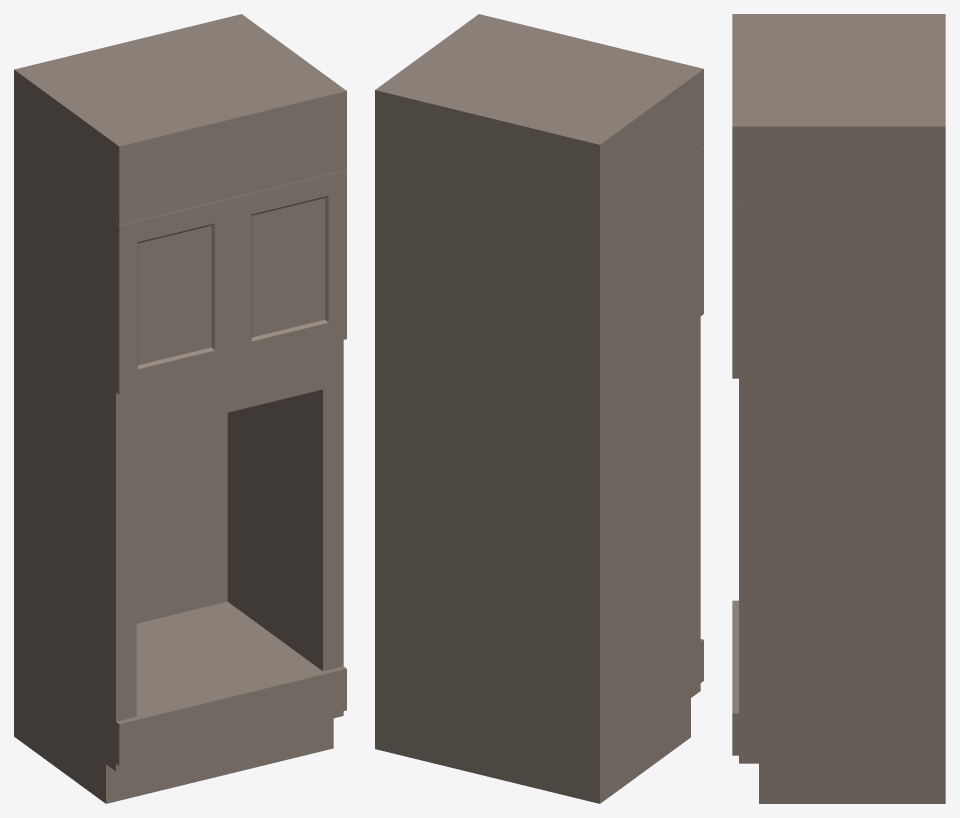
File: WHP-Double-Tall-Oven-Cabinet_std_001_W30in.glb
3 renders of one model, left to right at view 1: azimuth 30°, elevation 25°; view 2: azimuth 150°, elevation 25°; view 3: azimuth 270°, elevation 25°, orthographic. The views are drawn at different scales.
Parts seen in each view (by area): view 1: WHP-Double-Tall-Oven-Cabinet.std.001_W30in; view 2: WHP-Double-Tall-Oven-Cabinet.std.001_W30in; view 3: WHP-Double-Tall-Oven-Cabinet.std.001_W30in.
Part boxes in pixels (left/top/right/bottom): WHP-Double-Tall-Oven-Cabinet.std.001_W30in: left=14, top=14, right=346, bottom=803; WHP-Double-Tall-Oven-Cabinet.std.001_W30in: left=375, top=14, right=703, bottom=803; WHP-Double-Tall-Oven-Cabinet.std.001_W30in: left=732, top=14, right=945, bottom=803.
Size of the model in its own units: 0.762 by 2.13 by 0.6096.
